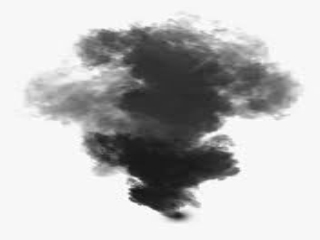smoke: (79, 24, 282, 222)
